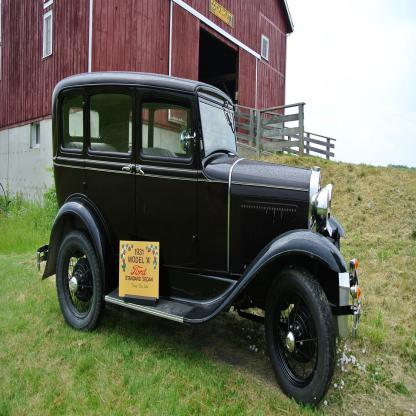Car: (37, 71, 361, 409)
